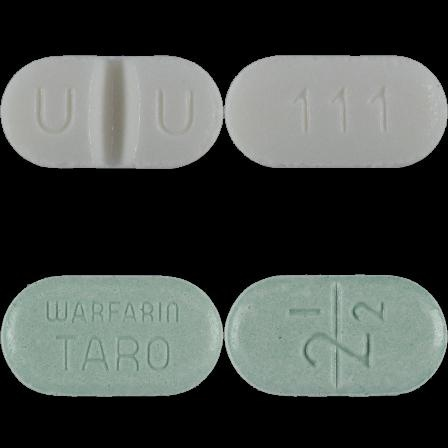53808-0993: (0, 0, 224, 224)
